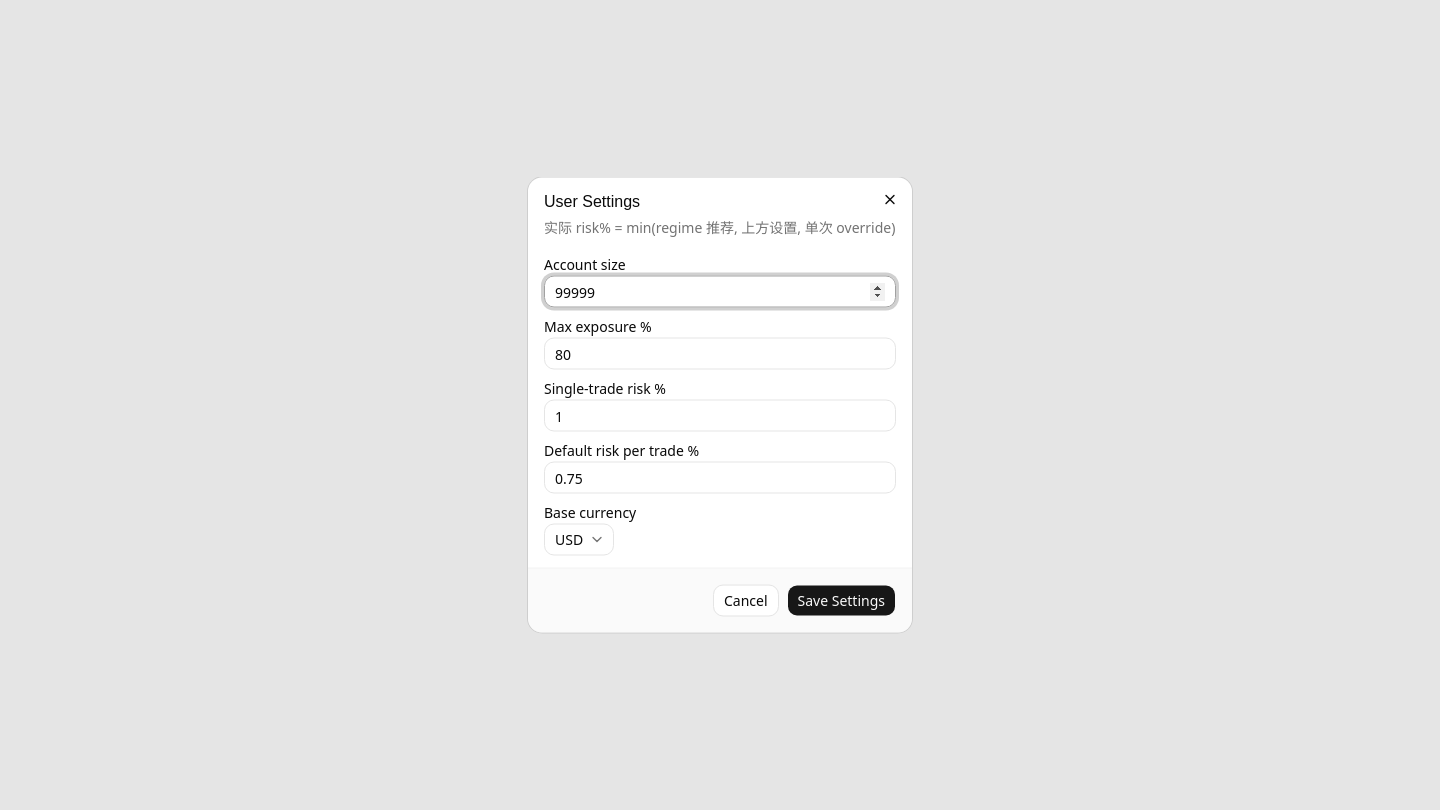
Test: S10 – zod validation errors › singleTradeRiskPct=6 shows validation error
Expected: the number field labelled "Account size" holds "99999", 544,276 -> 896,308
Replace the text in the number field labelled "Single-trade risk %" with "6" at coordinates (720, 416), box 544,400 -> 896,432
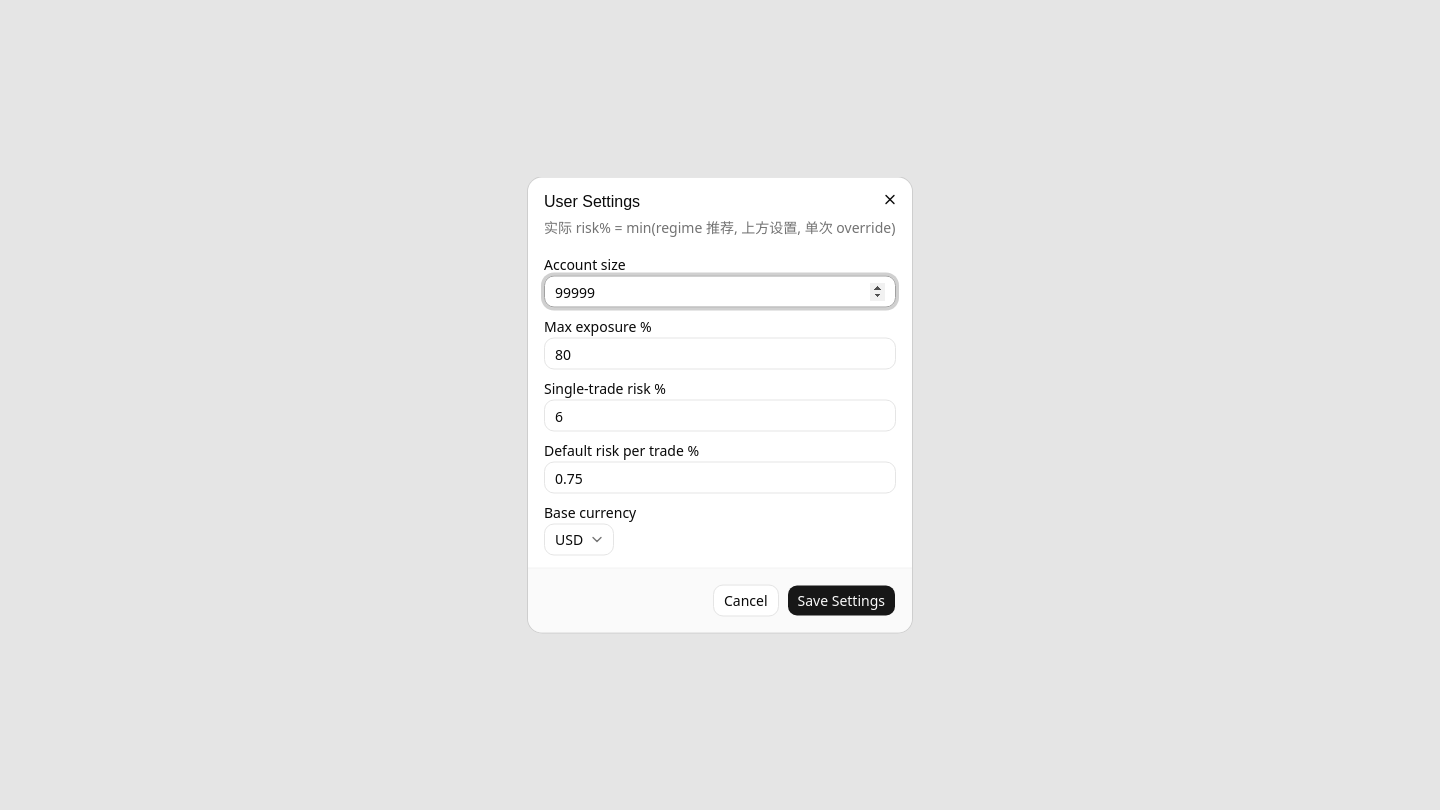
Click the button "Save Settings" at coordinates (841, 600), box 786,584 -> 896,616
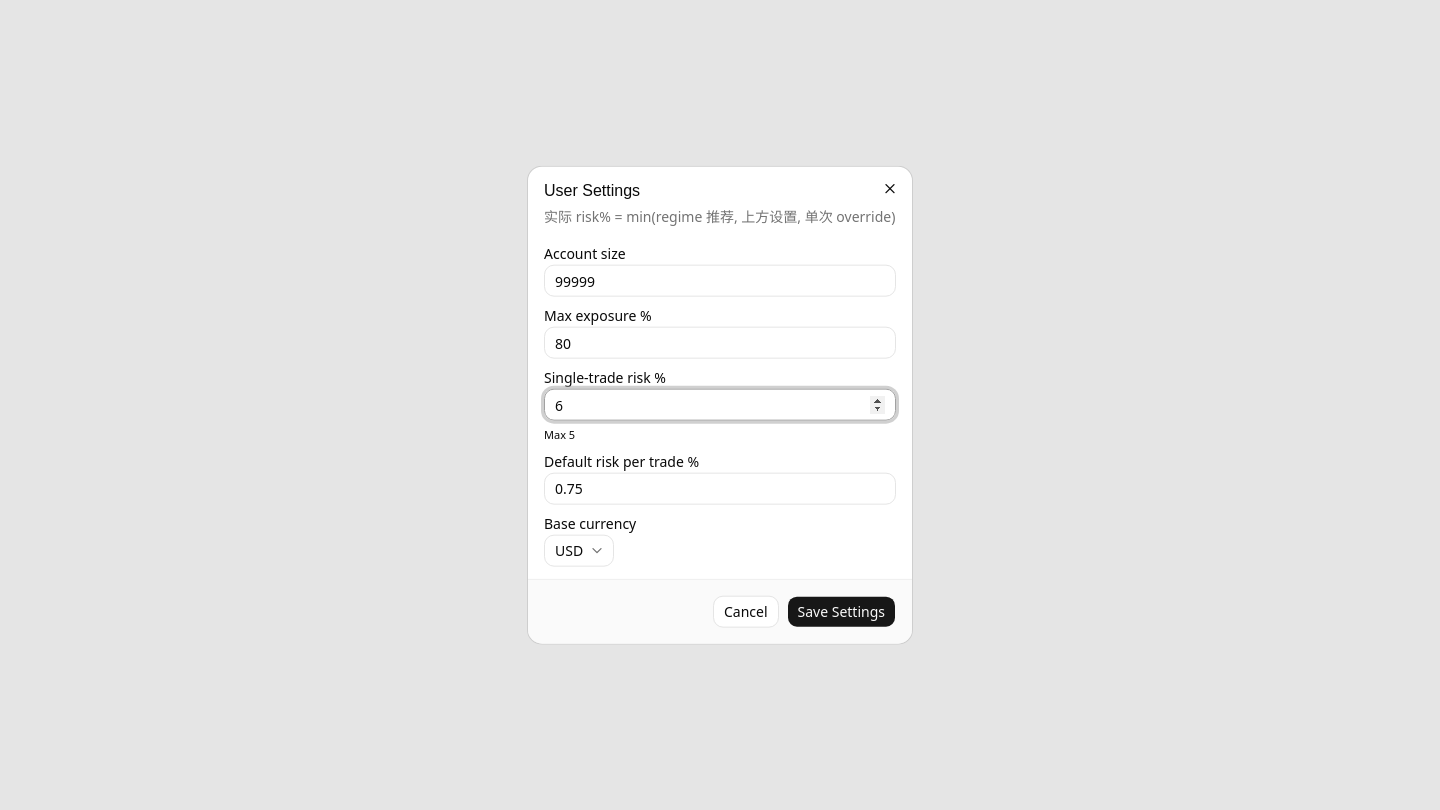
Now the text "Max 5" is shown, box 544,427 -> 575,442
